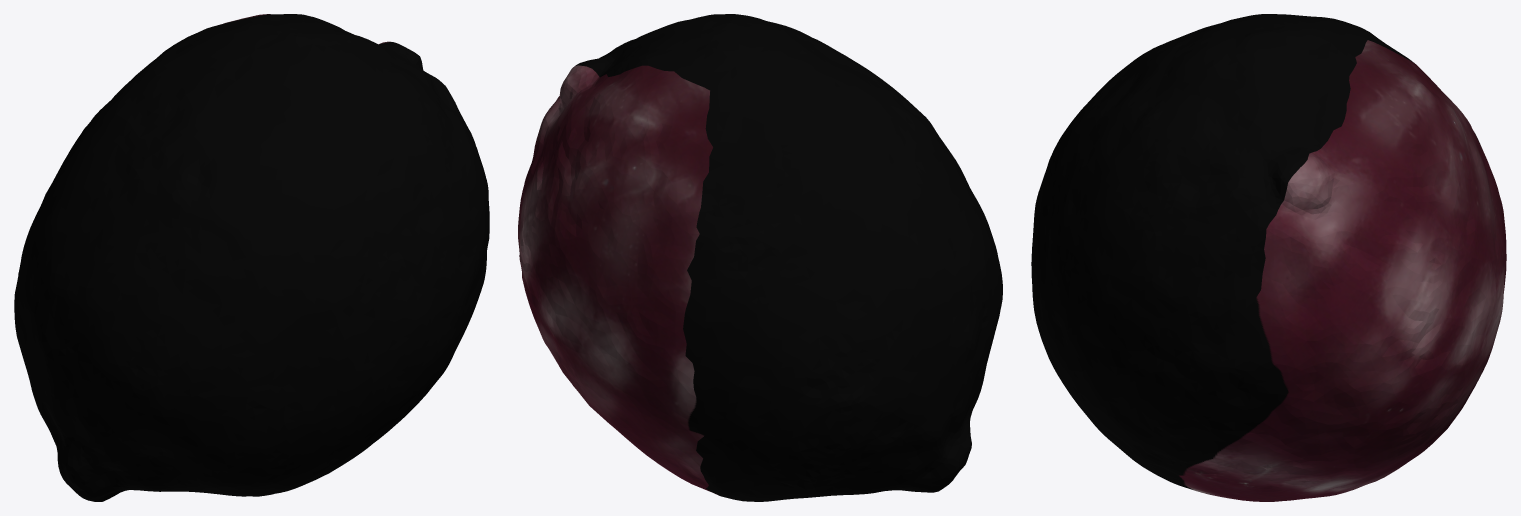
The picture shows the model from 3 angles, left to right: view 1: azimuth 30°, elevation 25°; view 2: azimuth 150°, elevation 25°; view 3: azimuth 270°, elevation 25°; orthographic projection. The views are drawn at different scales.
Visible parts, largest first — view 1: node; view 2: node; view 3: node.
Boxes of the visible parts, bbox=[...] form: node: bbox=[14, 14, 489, 501]; node: bbox=[518, 14, 1002, 501]; node: bbox=[1031, 14, 1506, 501].
Size of the model in its own units: 0.0606 by 0.0593 by 0.053.
